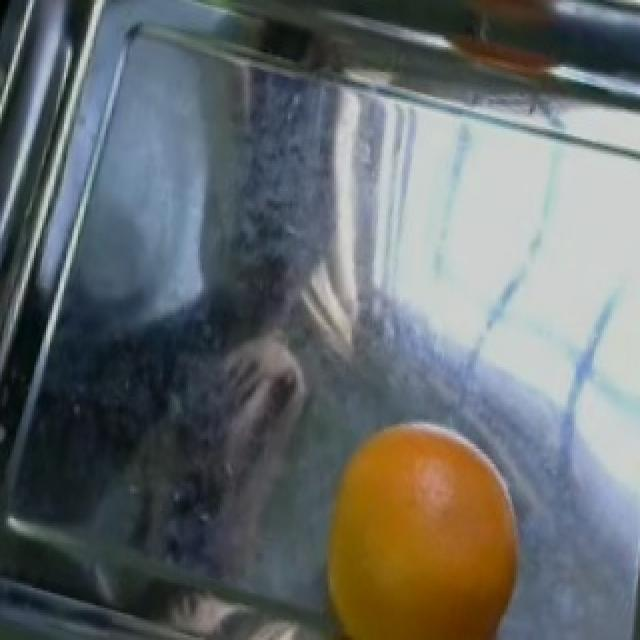Fruit: (310, 407, 530, 640)
